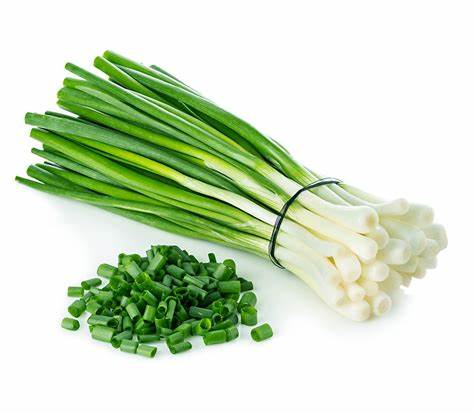Green Onion: (17, 42, 450, 338)
